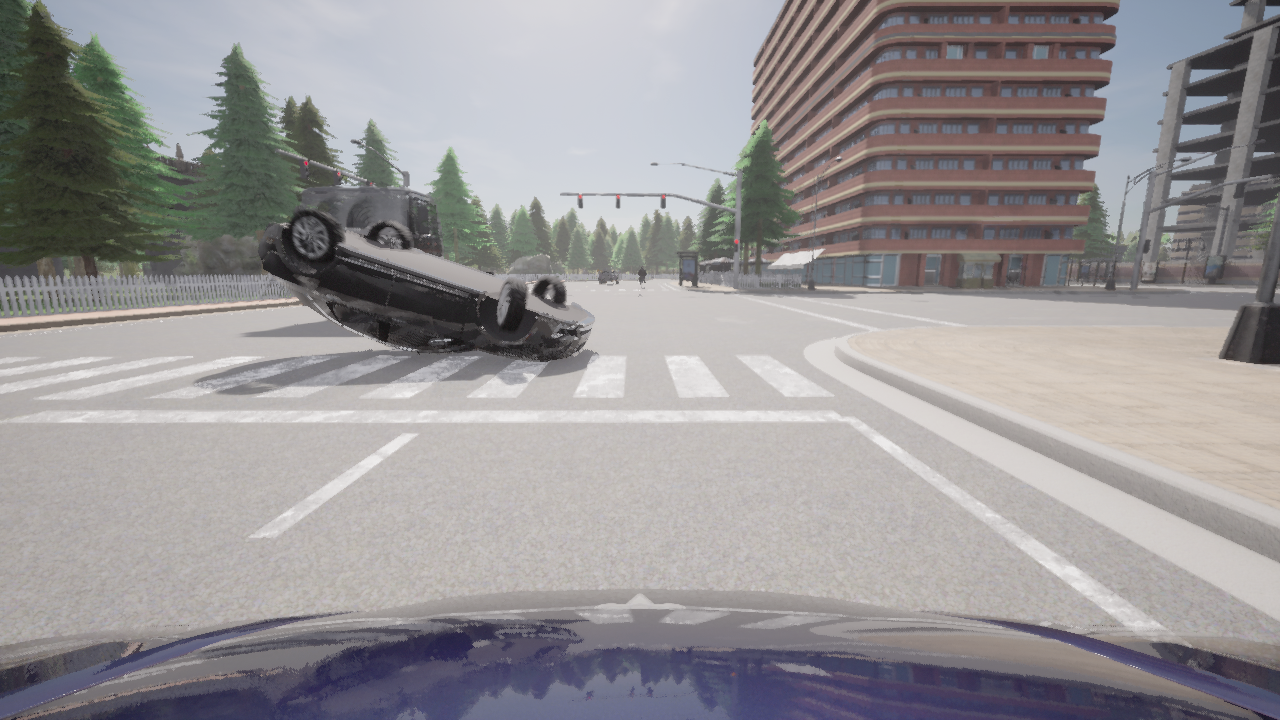cyclist: (0, 588, 1279, 719), (257, 210, 595, 360), (294, 186, 495, 306), (599, 267, 620, 284), (642, 280, 643, 284)
